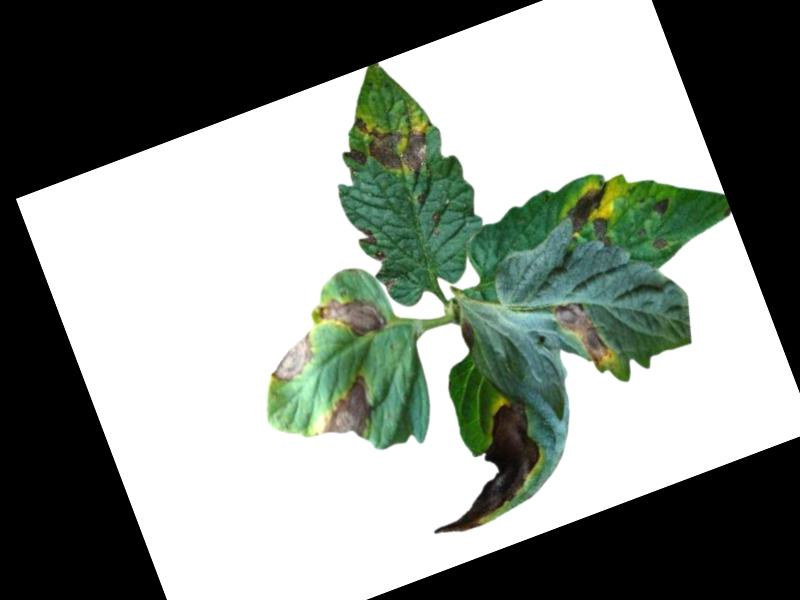Early_blight: (398, 396, 560, 543), (352, 98, 438, 189), (302, 374, 383, 454), (549, 294, 616, 381), (313, 284, 389, 351), (559, 181, 621, 236), (265, 331, 323, 384), (356, 222, 386, 265), (589, 213, 617, 250), (343, 144, 368, 171), (651, 197, 672, 217), (650, 238, 668, 254)
